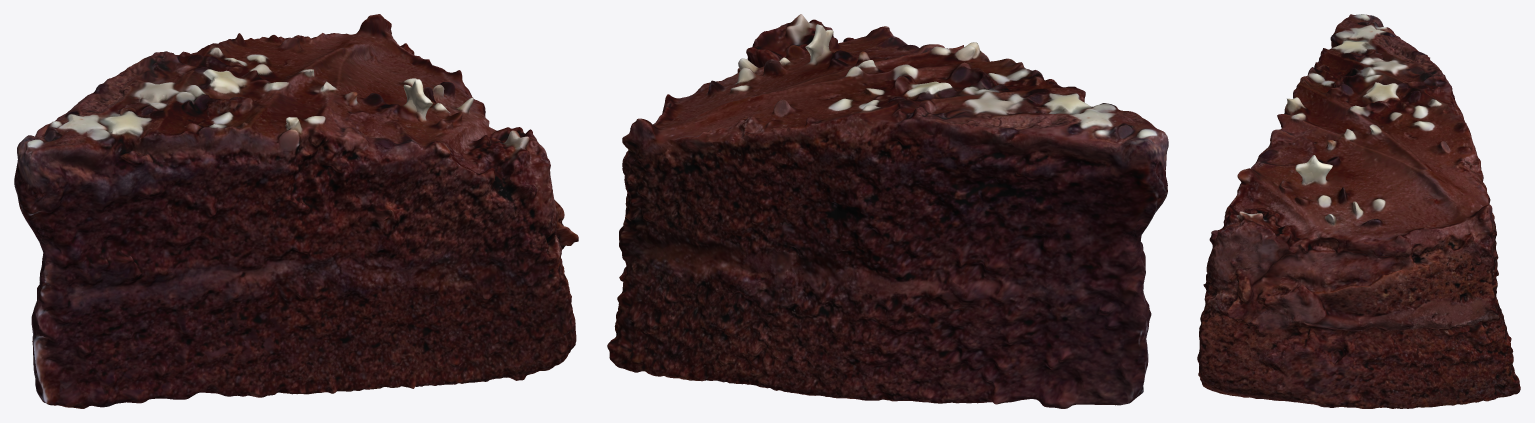
Rendered from Birthday-Cake.glb.
The picture shows the model from 3 angles, left to right: view 1: azimuth 30°, elevation 25°; view 2: azimuth 150°, elevation 25°; view 3: azimuth 270°, elevation 25°; orthographic projection. The views are drawn at different scales.
Parts seen in each view (by area): view 1: Mesh_0; view 2: Mesh_0; view 3: Mesh_0.
Part boxes in pixels (bbox=[...]): Mesh_0: bbox=[14, 14, 578, 408]; Mesh_0: bbox=[607, 14, 1168, 408]; Mesh_0: bbox=[1197, 14, 1520, 408].
Size of the model in its own units: 0.3029 by 0.1691 by 0.2162.
Materials: 1 (1 with a texture image).
